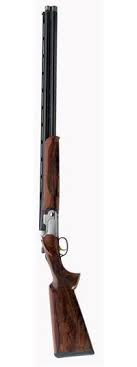gun: (36, 3, 97, 358)
